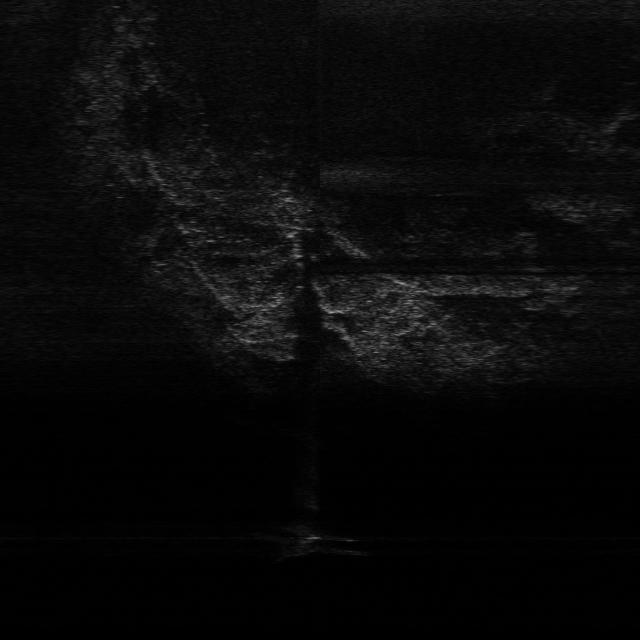plane: (257, 522, 371, 562)
